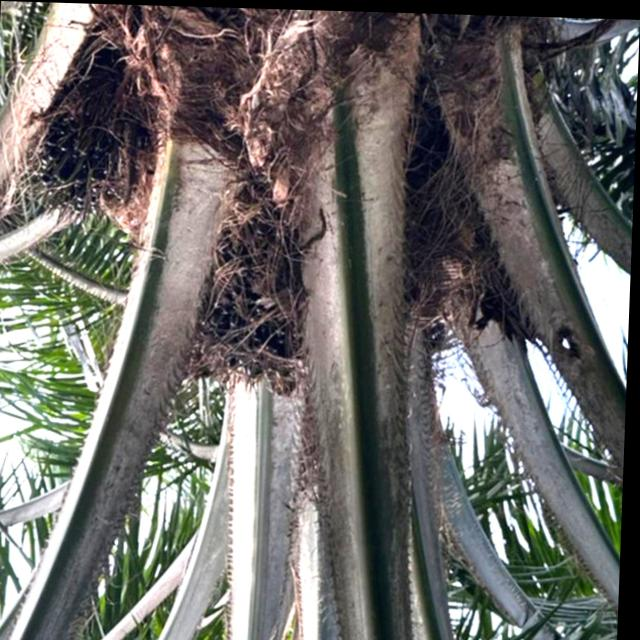unripe: (179, 153, 323, 397), (21, 17, 154, 221)
